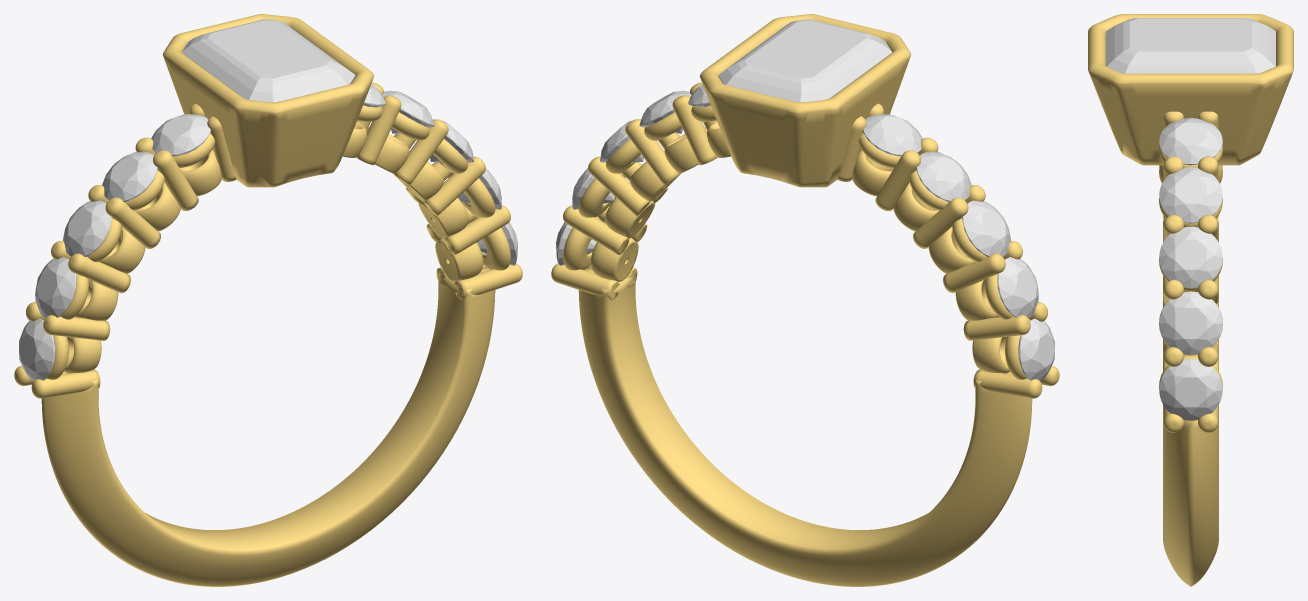
The model's file is diamond-emerald-yellowgold-bezelset-knifeedge-11stone.glb.
3 views of the same model, side by side, from view 1: azimuth 30°, elevation 25°; view 2: azimuth 150°, elevation 25°; view 3: azimuth 270°, elevation 25° (orthographic).
Parts seen in each view (by area): view 1: metal.002, stone.001, side.014, side.015, side.013, side.016, side.001, side.018; view 2: metal.002, stone.001, side.014, side.015, side.013, side.016, side.001, side.018; view 3: metal.002, stone.001, side.020, side.021, side.019, side.018, side.017.
Part boxes in pixels (x1=…): metal.002: x1=14, y1=14, x2=522, y2=586; stone.001: x1=181, y1=19, x2=355, y2=102; side.014: x1=63, y1=200, x2=111, y2=256; side.015: x1=102, y1=152, x2=157, y2=201; side.013: x1=35, y1=257, x2=76, y2=317; side.016: x1=151, y1=114, x2=210, y2=156; side.001: x1=19, y1=318, x2=55, y2=380; side.018: x1=382, y1=90, x2=434, y2=133; metal.002: x1=551, y1=14, x2=1059, y2=586; stone.001: x1=718, y1=19, x2=892, y2=102; side.014: x1=962, y1=200, x2=1010, y2=256; side.015: x1=916, y1=152, x2=971, y2=201; side.013: x1=997, y1=257, x2=1038, y2=317; side.016: x1=863, y1=114, x2=922, y2=156; side.001: x1=1018, y1=318, x2=1054, y2=380; side.018: x1=639, y1=90, x2=691, y2=133; metal.002: x1=1088, y1=14, x2=1293, y2=586; stone.001: x1=1106, y1=18, x2=1275, y2=73; side.020: x1=1159, y1=292, x2=1222, y2=355; side.021: x1=1159, y1=358, x2=1222, y2=420; side.019: x1=1159, y1=226, x2=1222, y2=288; side.018: x1=1159, y1=167, x2=1222, y2=223; side.017: x1=1159, y1=118, x2=1222, y2=165.
Size of the model in its own units: 22 by 22.94 by 8.11.
